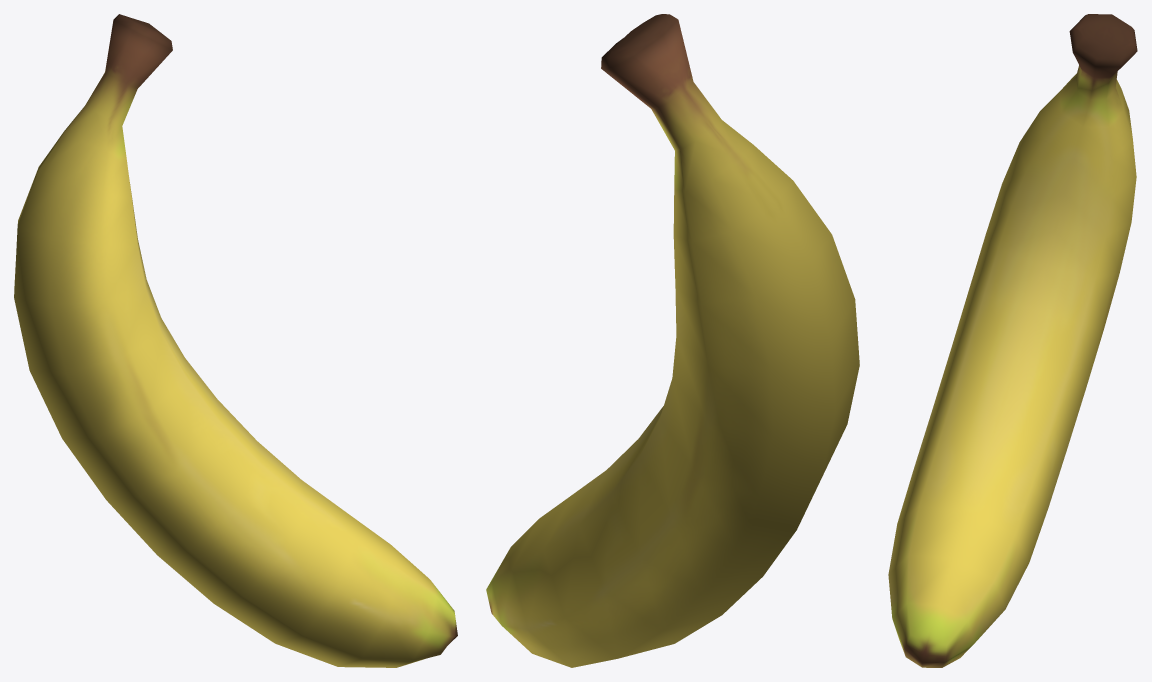
File: banana.glb
3 renders of one model, left to right at view 1: azimuth 30°, elevation 25°; view 2: azimuth 150°, elevation 25°; view 3: azimuth 270°, elevation 25°, orthographic. The views are drawn at different scales.
Visible parts, largest first — view 1: Banana_Banana_mat_0; view 2: Banana_Banana_mat_0; view 3: Banana_Banana_mat_0.
Boxes of the visible parts, box(x1,y1,x2,y2) form: Banana_Banana_mat_0: box(14, 14, 457, 667); Banana_Banana_mat_0: box(486, 14, 859, 667); Banana_Banana_mat_0: box(888, 14, 1137, 667).
Size of the model in its own units: 0.0776 by 0.1291 by 0.0516.
1 material, 1 textured.
